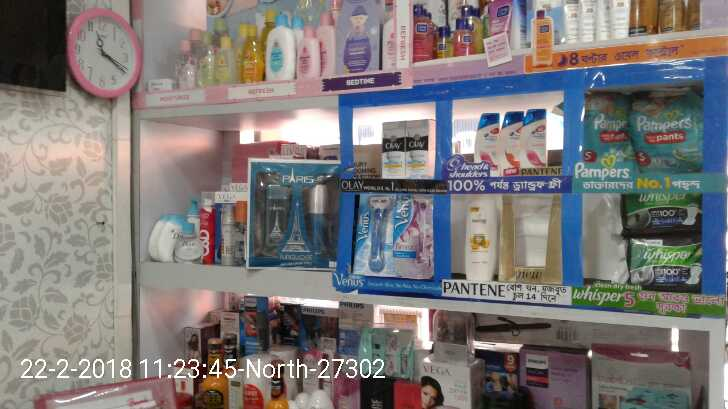venus: (394, 193, 434, 280), (356, 198, 394, 280)
